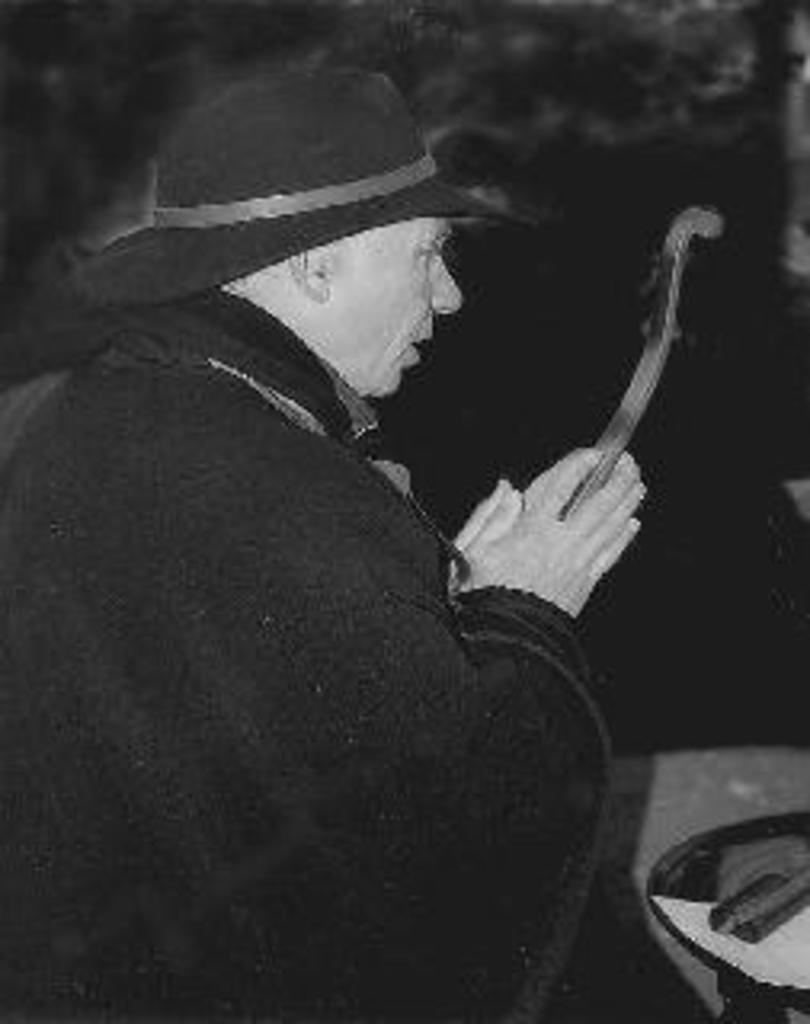Hat: (70, 73, 537, 310)
